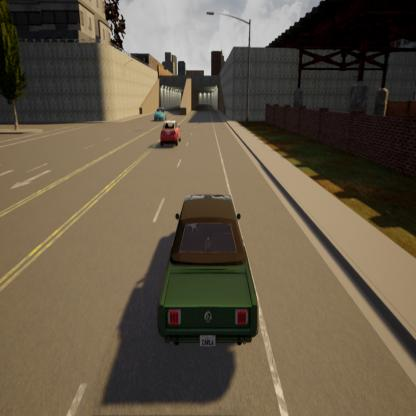Cars: (158, 195, 260, 350), (160, 120, 183, 145), (152, 105, 166, 122)
